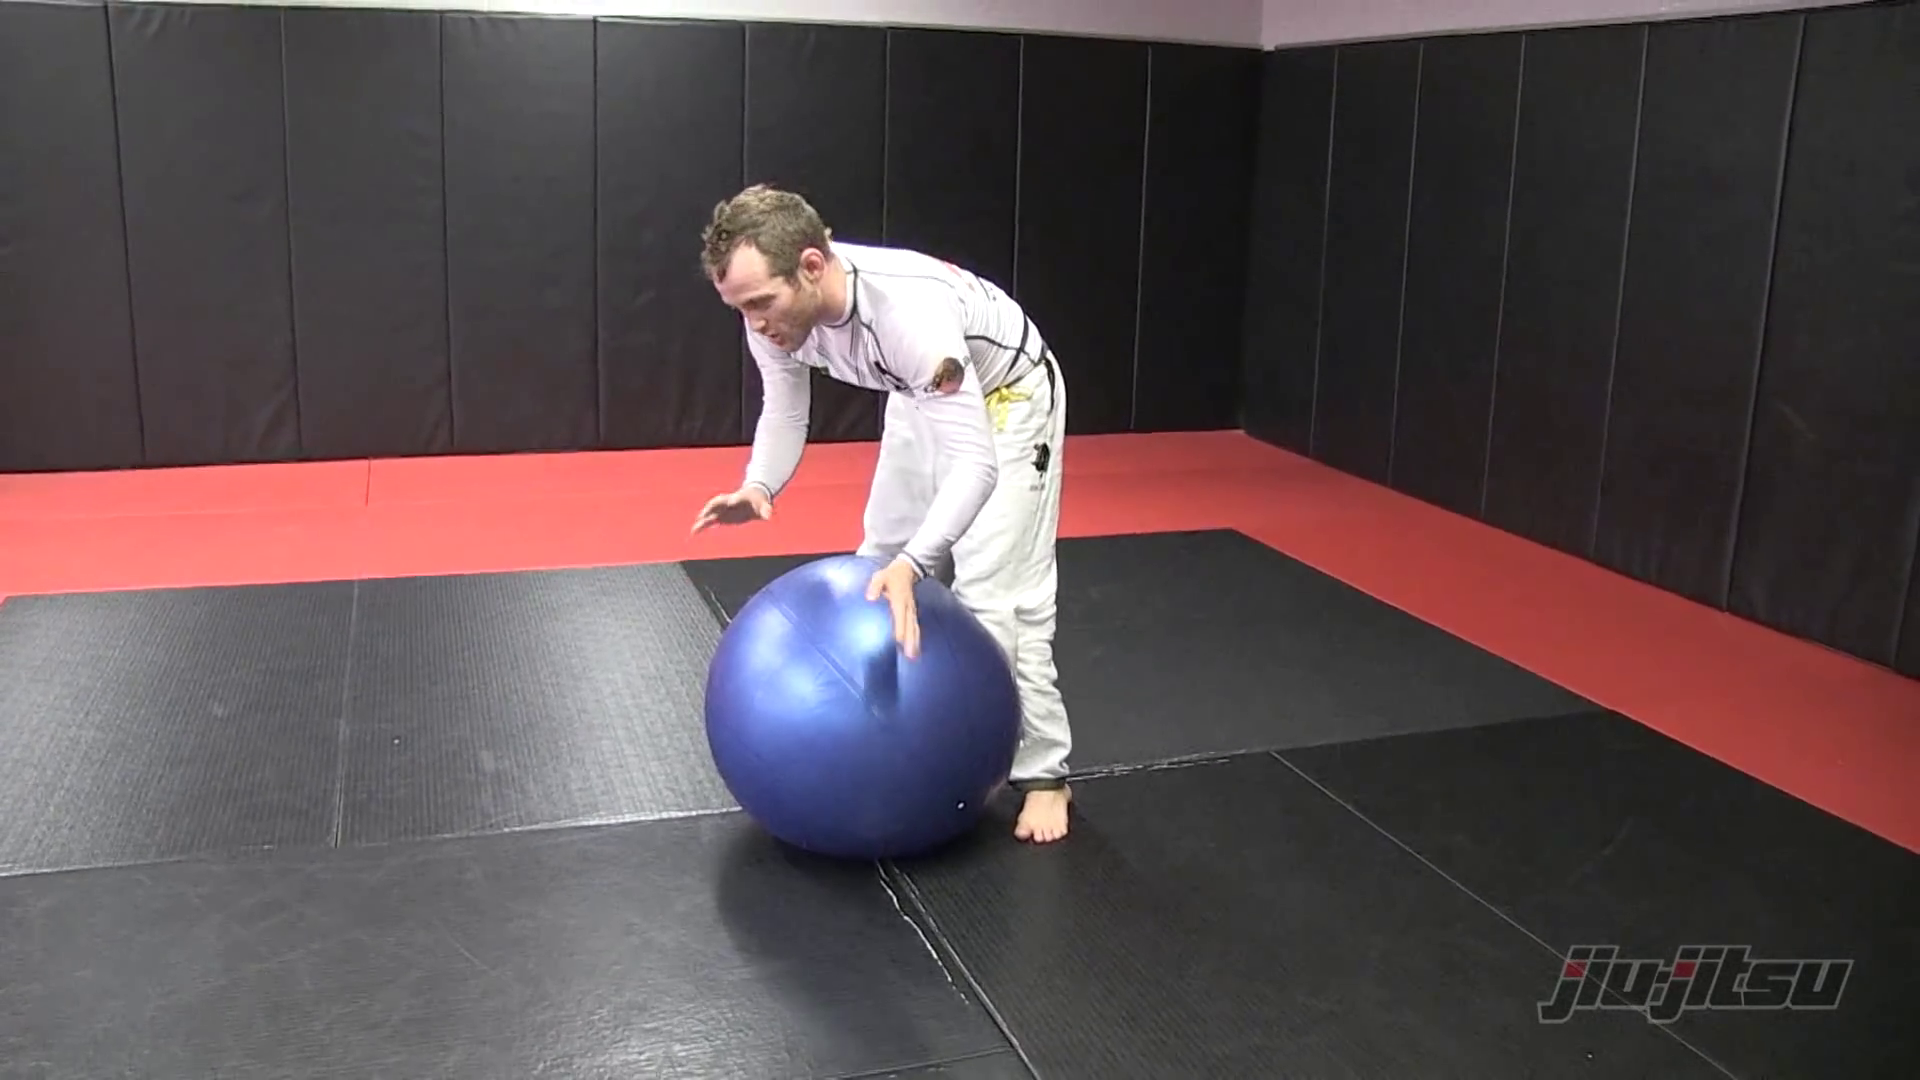yogaball: (708, 543, 1038, 851)
